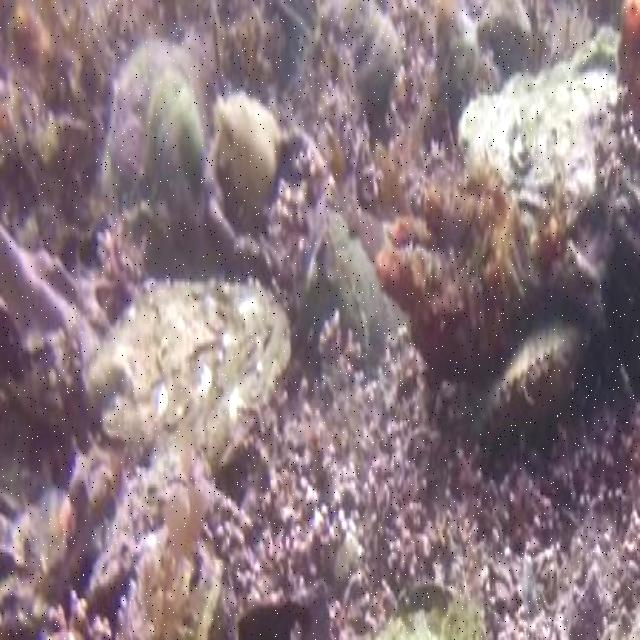Oyster-Closed: (80, 269, 292, 469), (459, 65, 620, 232), (484, 303, 586, 430)
